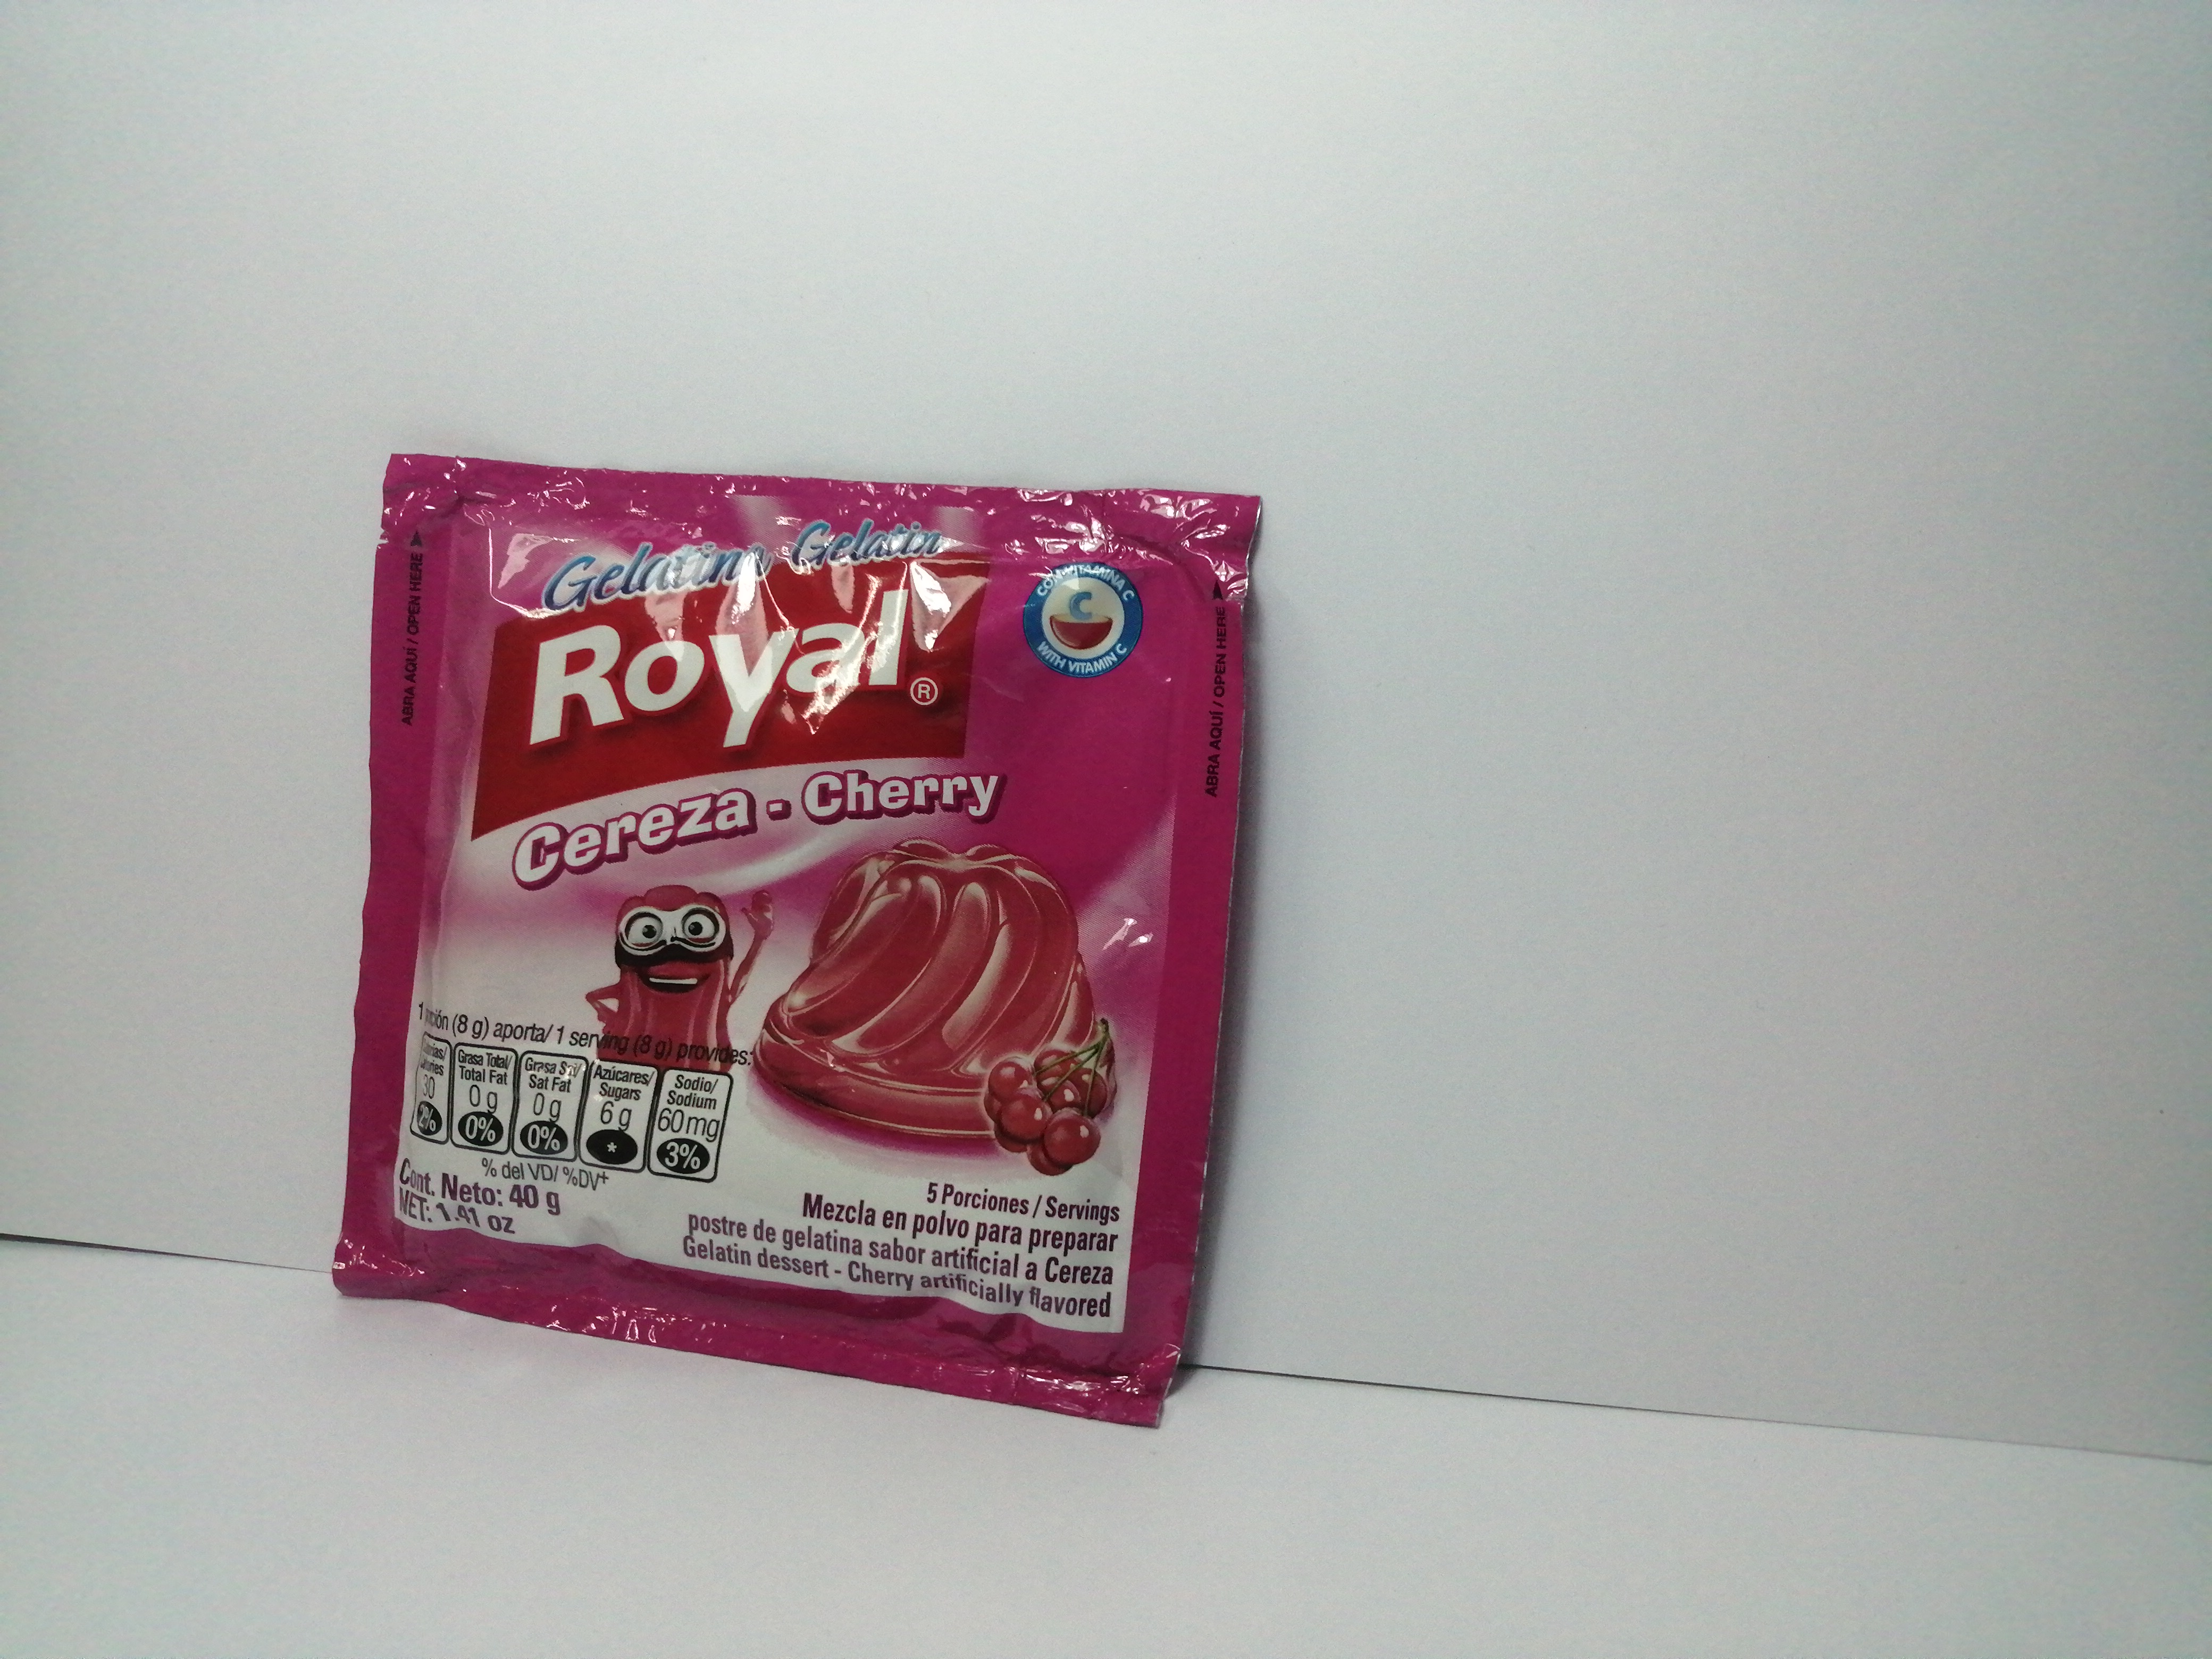gelatina: (324, 450, 1261, 1434)
